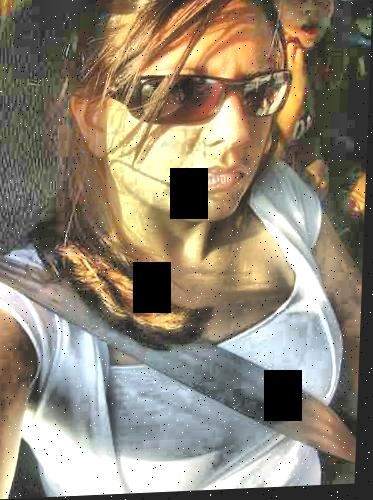seatbelt: (1, 241, 340, 452)
